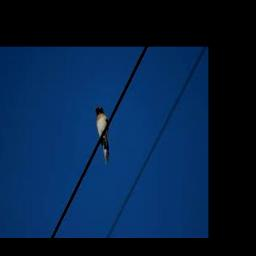Swallow: (96, 106, 111, 164)
